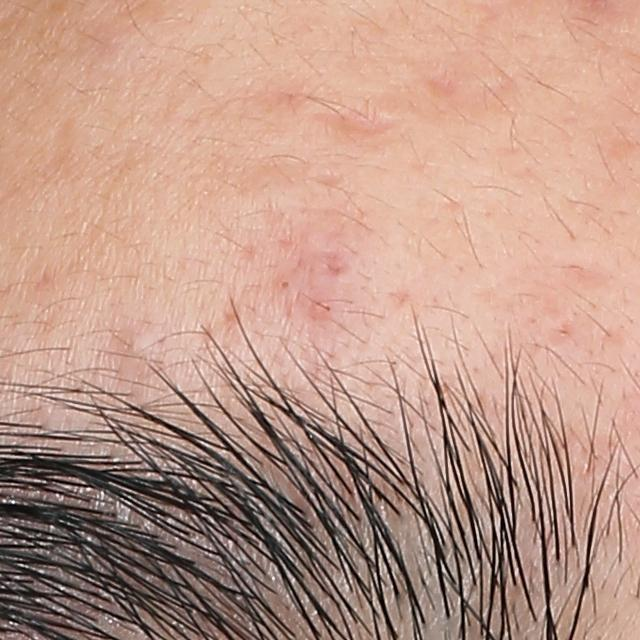atrophic_scar: (477, 251, 633, 351), (404, 57, 472, 104), (314, 107, 397, 137), (309, 245, 357, 276)
comedo: (123, 326, 152, 355), (278, 277, 292, 292)
